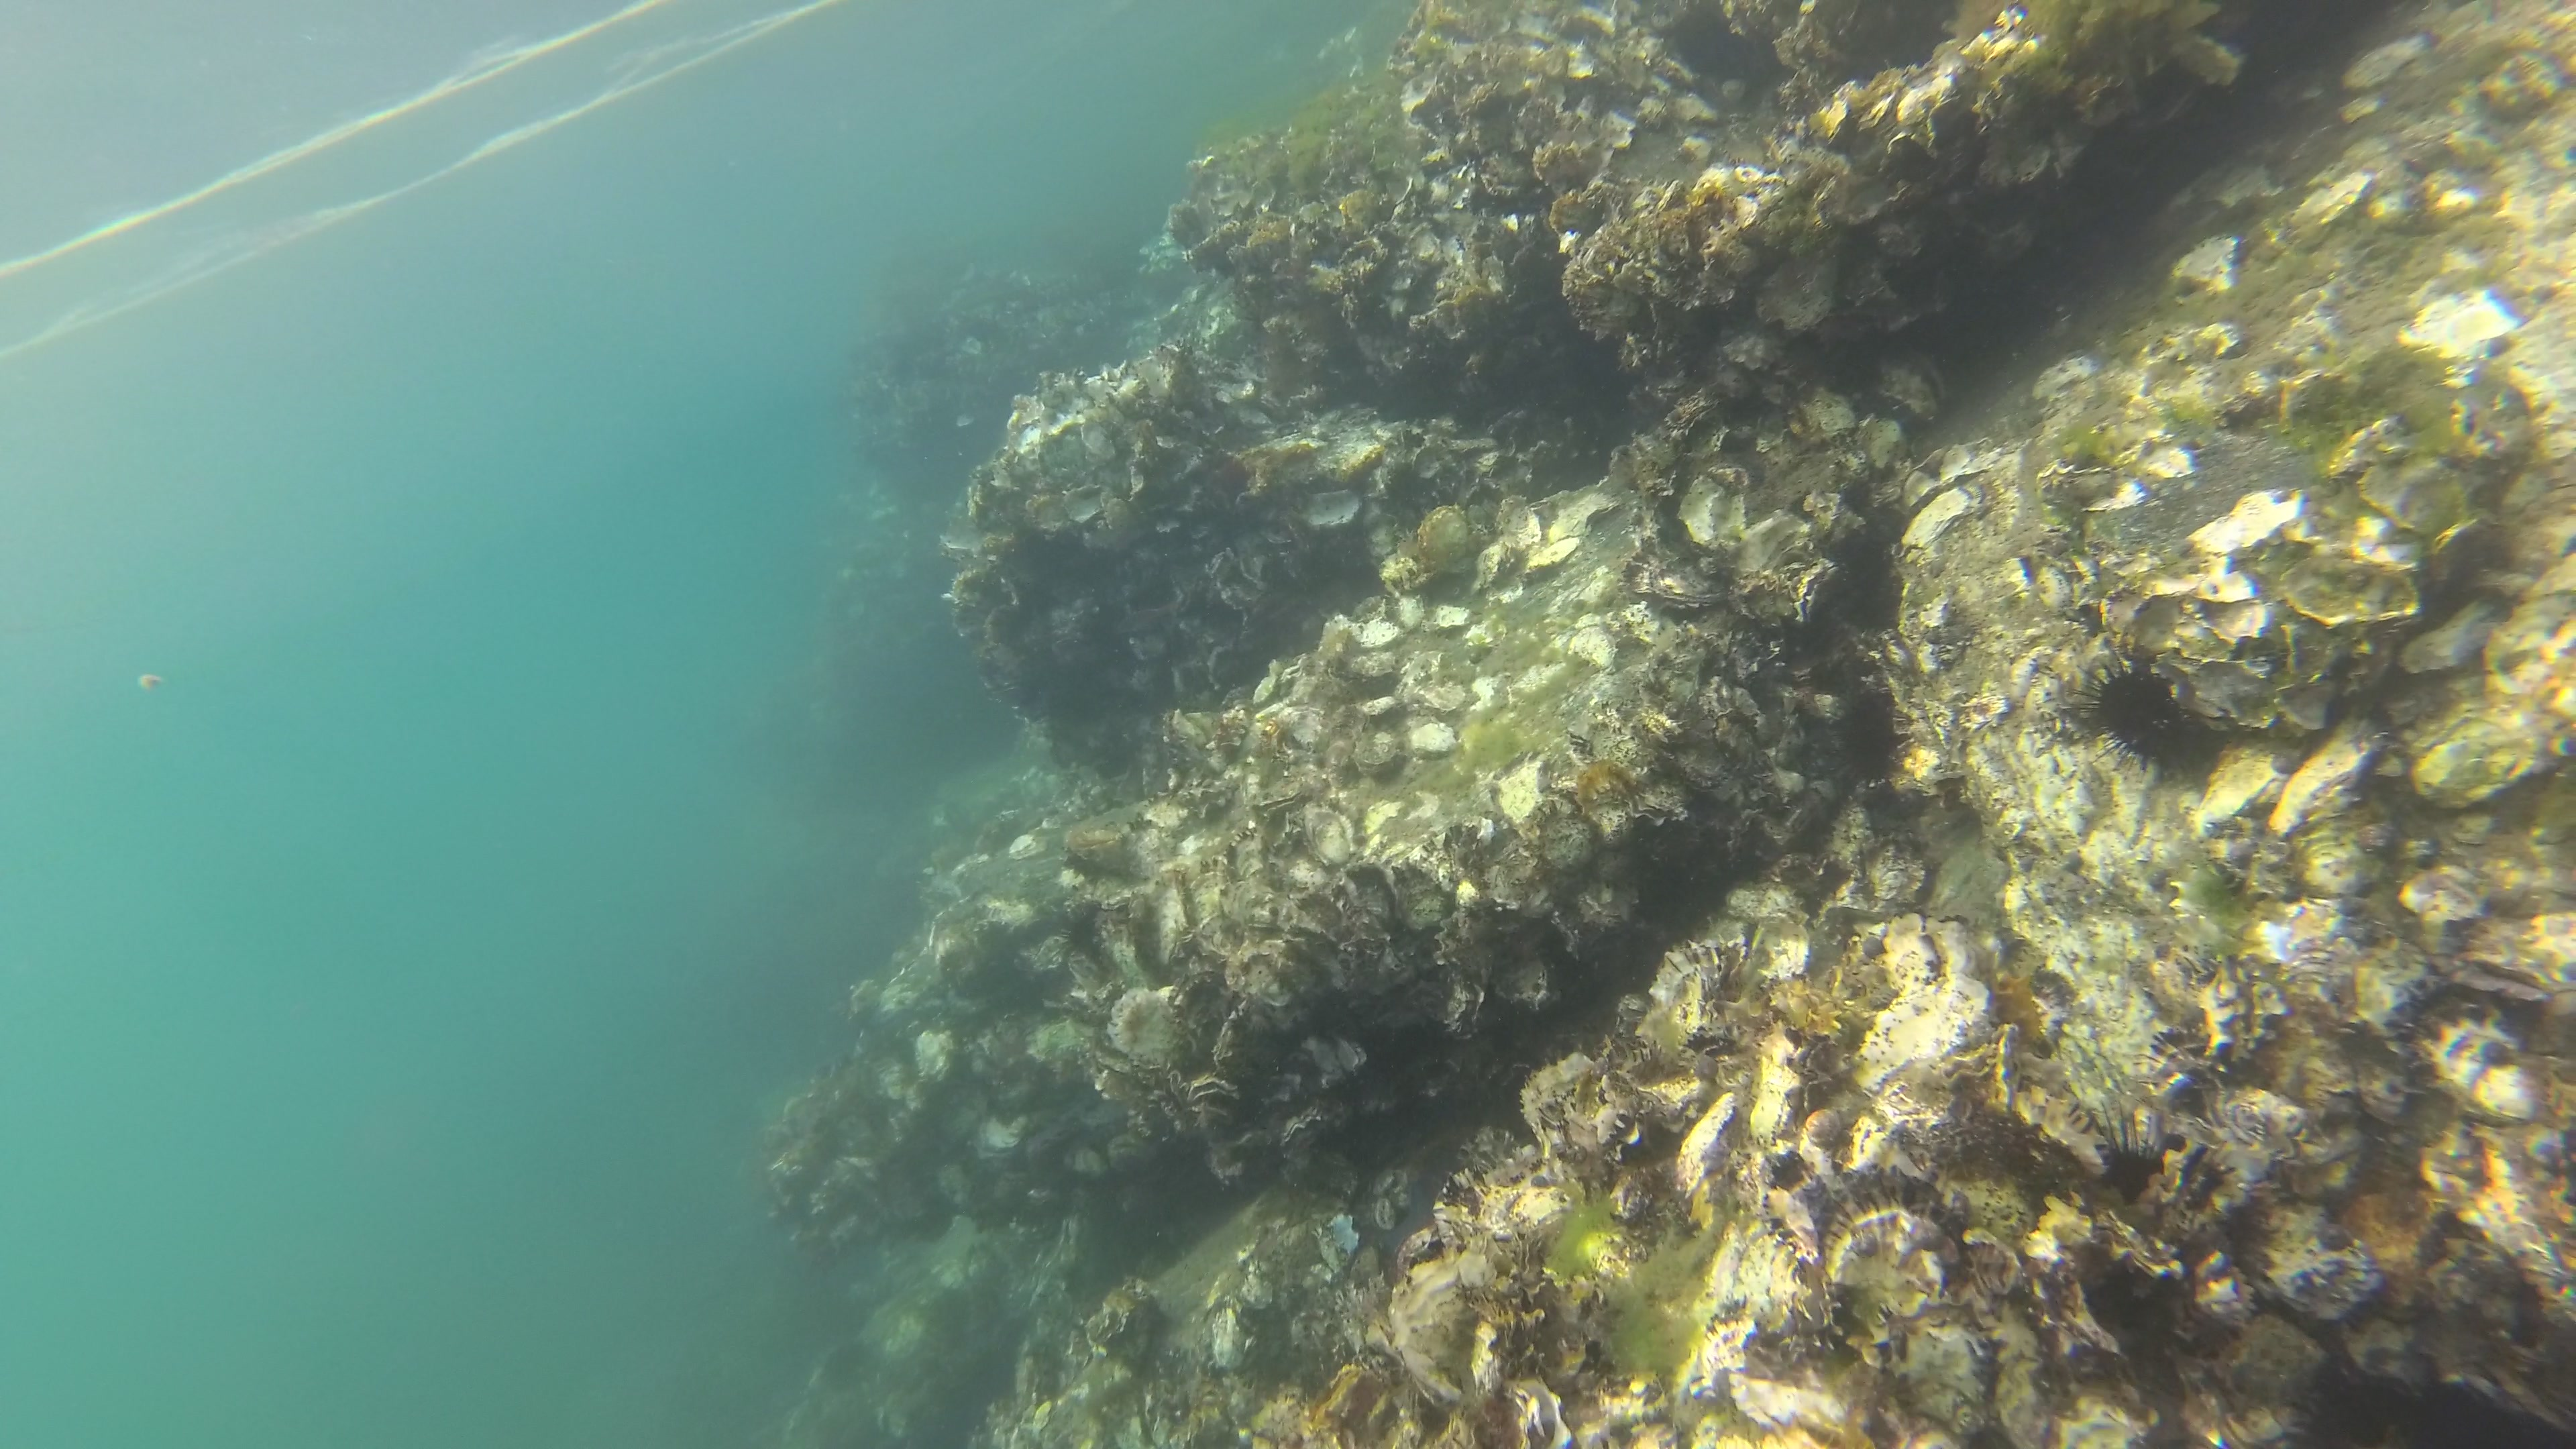echinus: (2075, 655, 2220, 780), (2084, 1102, 2238, 1201), (2286, 1373, 2413, 1449), (1829, 690, 1905, 782)
